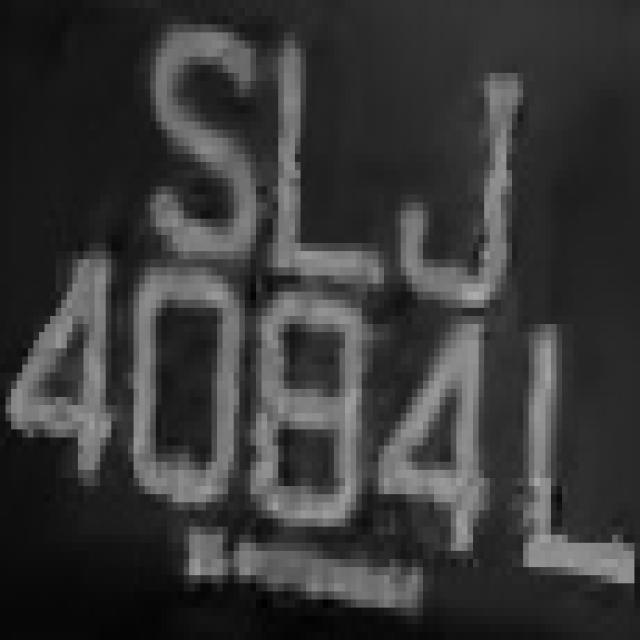0: (128, 267, 245, 518)
4: (367, 275, 490, 559), (5, 211, 117, 510)
8: (245, 267, 373, 543)
J: (390, 24, 534, 316)
L: (267, 16, 401, 308), (512, 300, 640, 599)
S: (128, 0, 262, 284)
